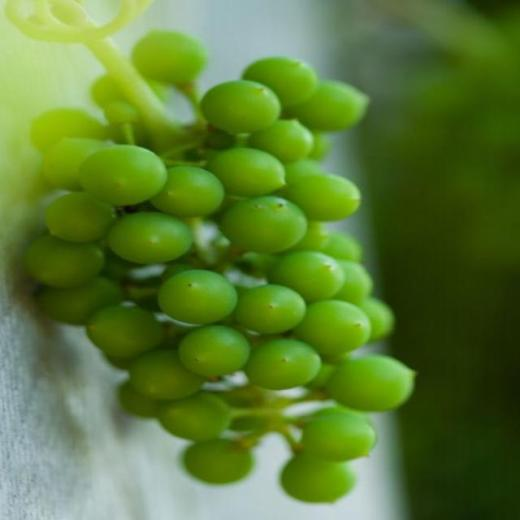Orange: (28, 28, 416, 497)
